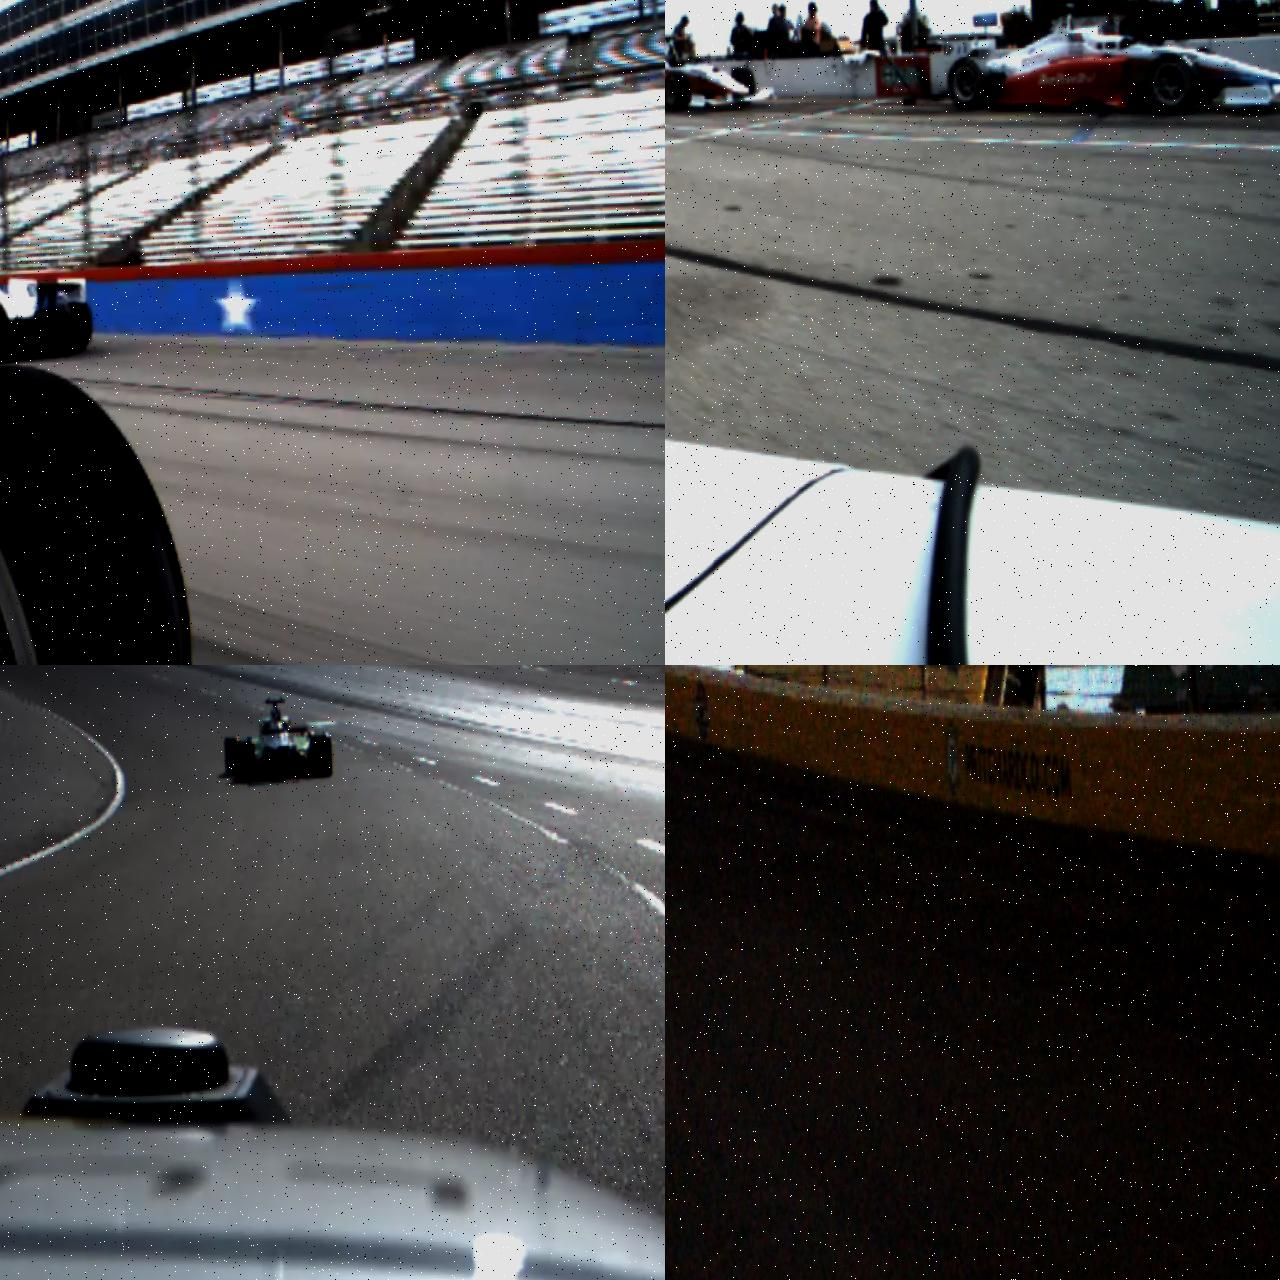AV: (943, 0, 1280, 124), (0, 242, 94, 369), (222, 696, 333, 784), (665, 30, 777, 115)
Wheel: (0, 360, 202, 665), (1144, 51, 1192, 117), (946, 54, 990, 112), (56, 300, 92, 354), (730, 65, 756, 107), (665, 69, 691, 111), (308, 734, 332, 778), (231, 741, 255, 782), (223, 737, 239, 776)
